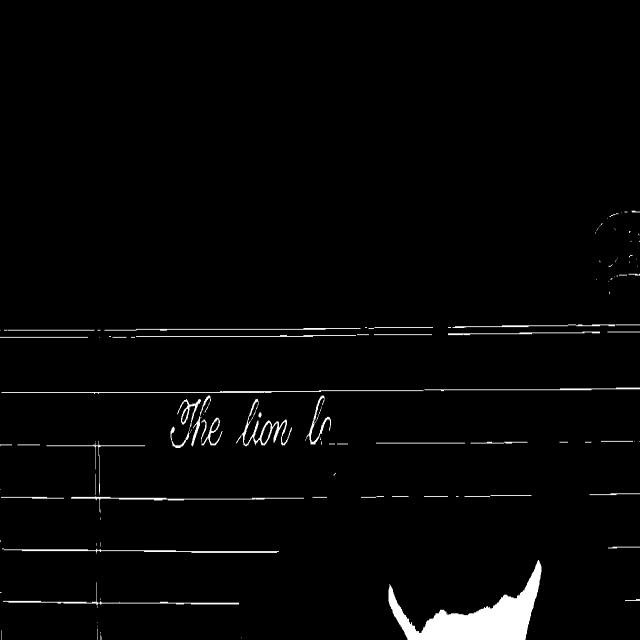hand: (388, 561, 541, 639)
noise: (0, 386, 640, 396), (2, 583, 239, 608), (0, 325, 434, 338), (0, 545, 280, 554), (68, 491, 305, 501), (447, 323, 640, 335), (0, 441, 146, 450), (375, 438, 545, 445), (548, 438, 636, 444), (463, 491, 532, 498), (0, 493, 66, 500), (606, 592, 640, 604), (360, 492, 410, 499), (606, 541, 640, 549), (586, 491, 640, 496), (422, 491, 450, 499)
not-noise: (170, 395, 224, 448), (235, 398, 294, 446), (305, 395, 332, 444)
page-marker: (595, 211, 640, 296)
